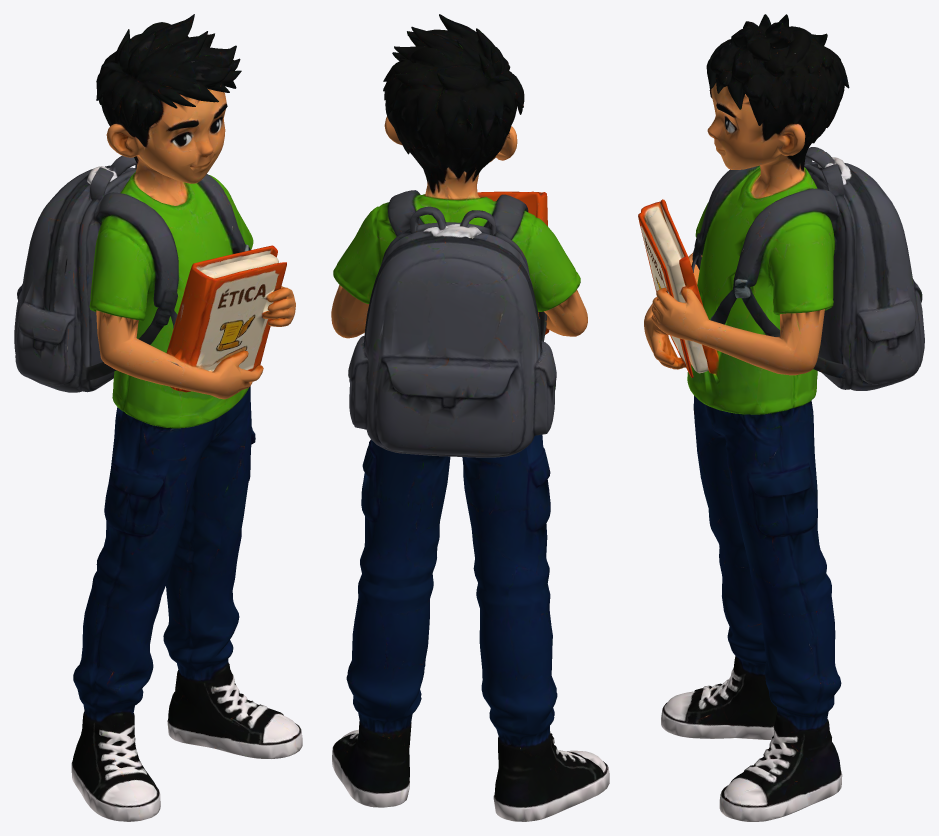
File: estudante.glb
The picture shows the model from 3 angles, left to right: view 1: azimuth 30°, elevation 25°; view 2: azimuth 150°, elevation 25°; view 3: azimuth 270°, elevation 25°; orthographic projection. The views are drawn at different scales.
Visible parts, largest first — view 1: geometry_0; view 2: geometry_0; view 3: geometry_0.
Boxes of the visible parts, box(x1,y1,x2,y2) form: geometry_0: box(14, 14, 302, 821); geometry_0: box(331, 14, 609, 821); geometry_0: box(638, 14, 924, 821).
Bounding box in the file's own units: 0.6579 × 1.9 × 0.6663.
Materials: 1 (1 with a texture image).
